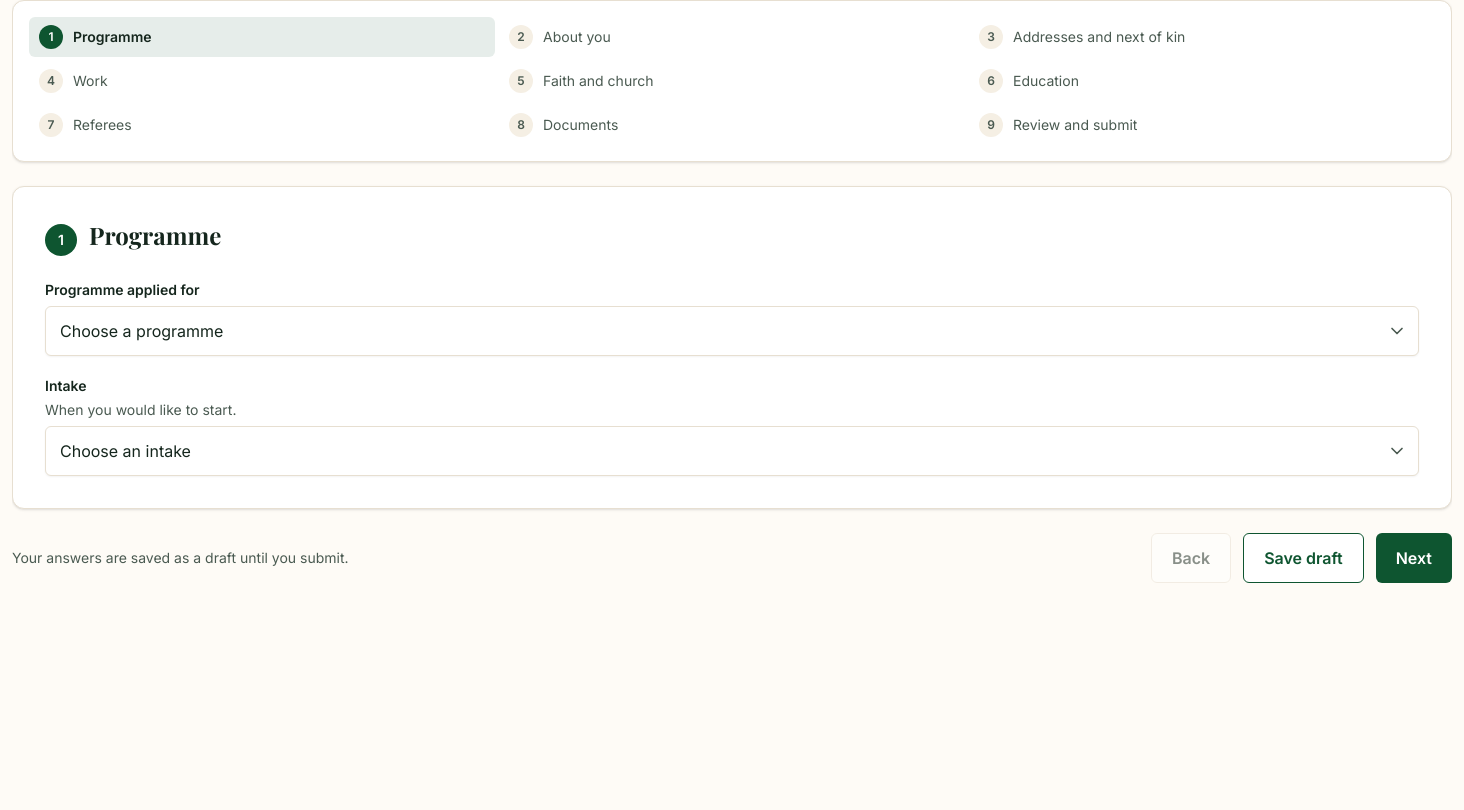
Test case: ApplicationForm › Next with a missing required answer shows the errors and stays on the step
This screenshot has width=1464, height=810.
Click the button "Next": {"x": 1414, "y": 558} 1376,533 -> 1452,583
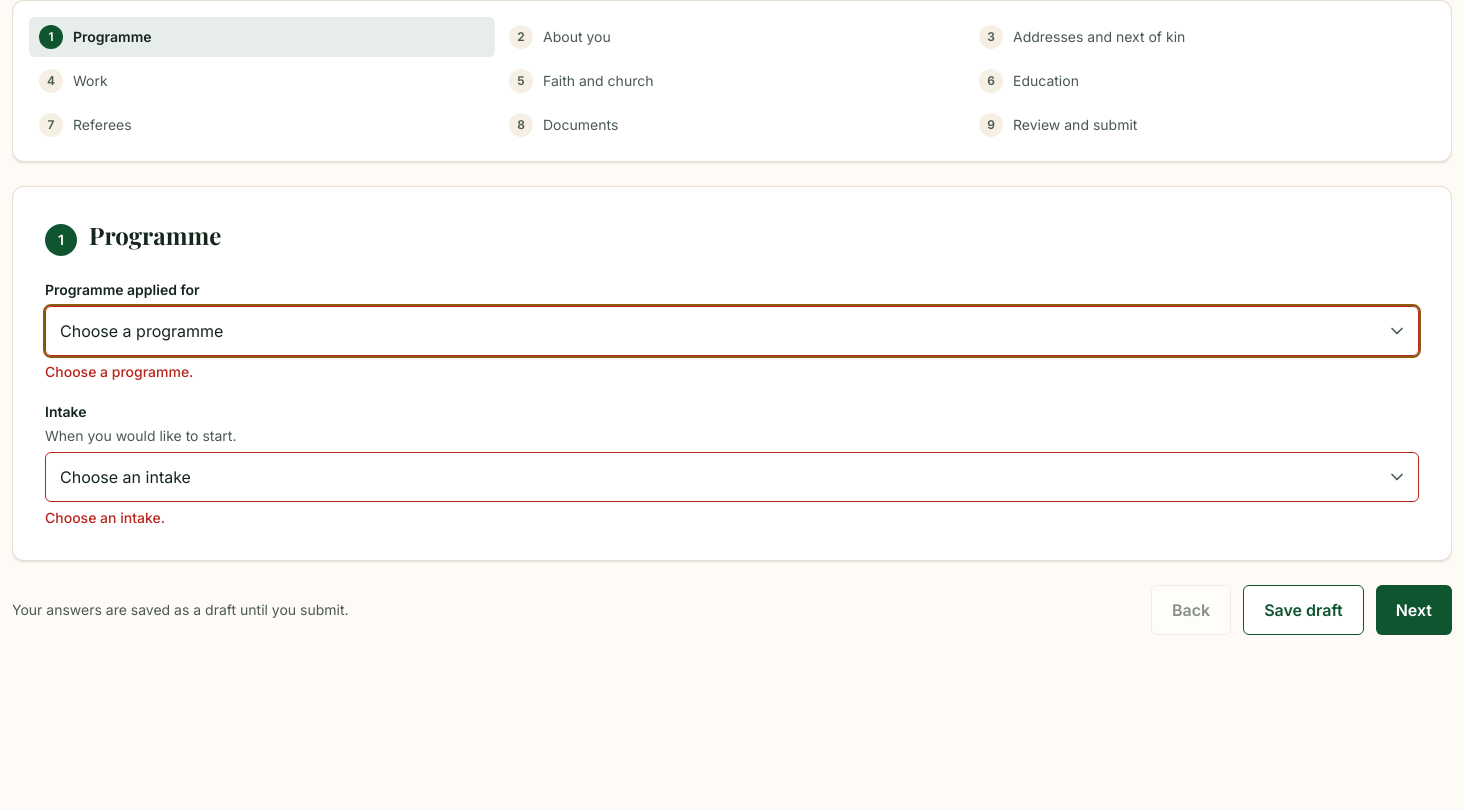
Expected: the button "1 Programme" is shown, 29,17 -> 495,57
Result: the text "Choose a programme." is shown at 45,363 -> 193,380
Result: the text "Choose an intake." is shown at 45,509 -> 165,526
